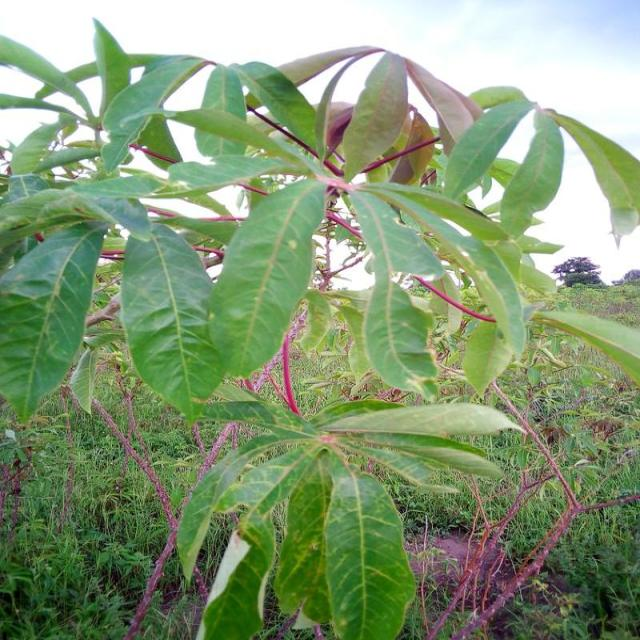cassava leaf: (2, 16, 639, 638), (208, 175, 329, 378), (1, 215, 110, 424), (120, 221, 226, 423)
